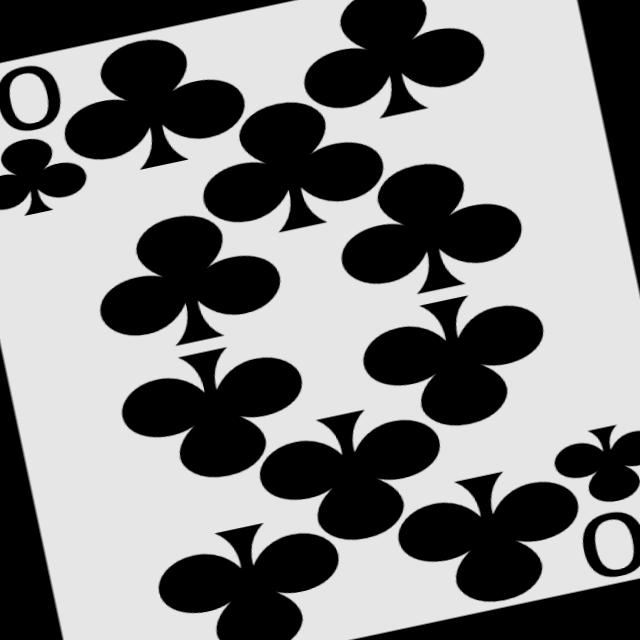Club: (48, 20, 254, 184), (324, 146, 532, 308), (83, 198, 290, 360), (112, 332, 318, 494), (353, 280, 559, 442), (250, 394, 455, 556), (186, 85, 392, 246), (389, 457, 595, 618), (147, 509, 353, 640), (287, 0, 492, 131), (0, 127, 92, 224), (548, 416, 640, 511)
